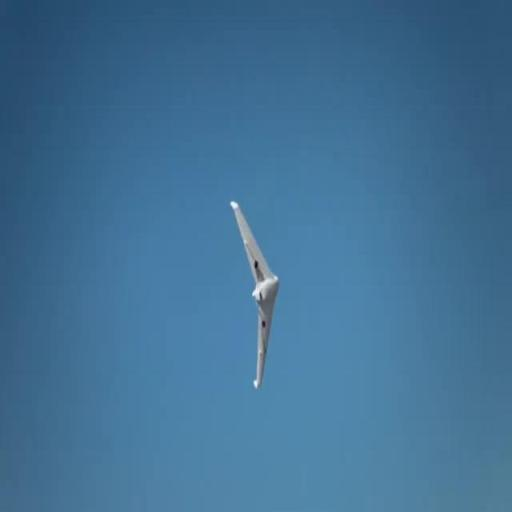uav: (228, 191, 281, 395)
